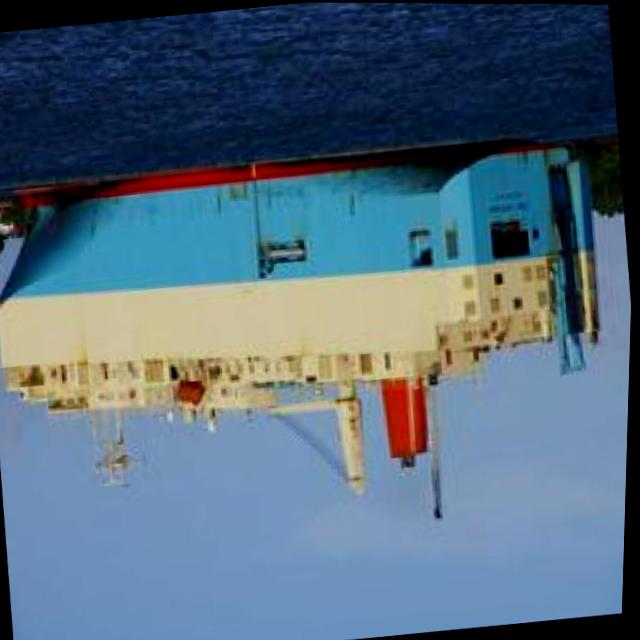ship2: (0, 136, 604, 519)
